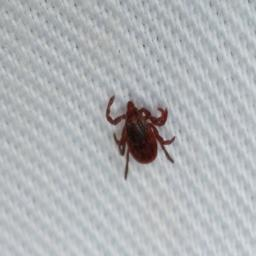Rhipicephalus sanguineus: (106, 94, 178, 181)
